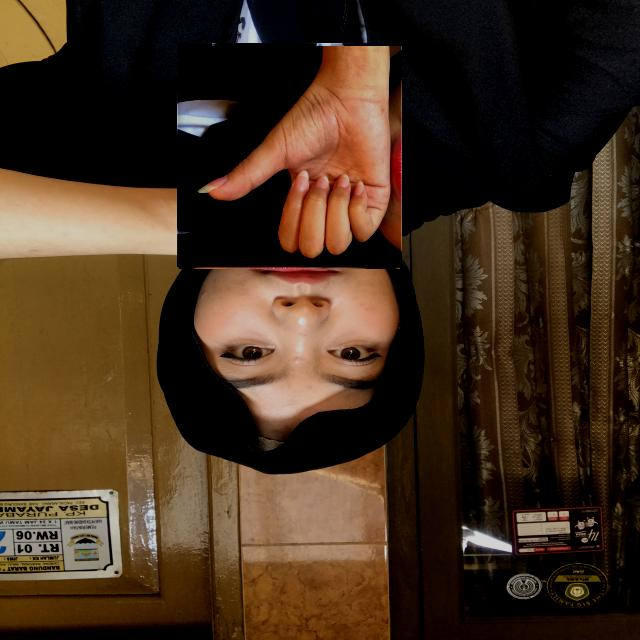sedih: (178, 44, 401, 268)
